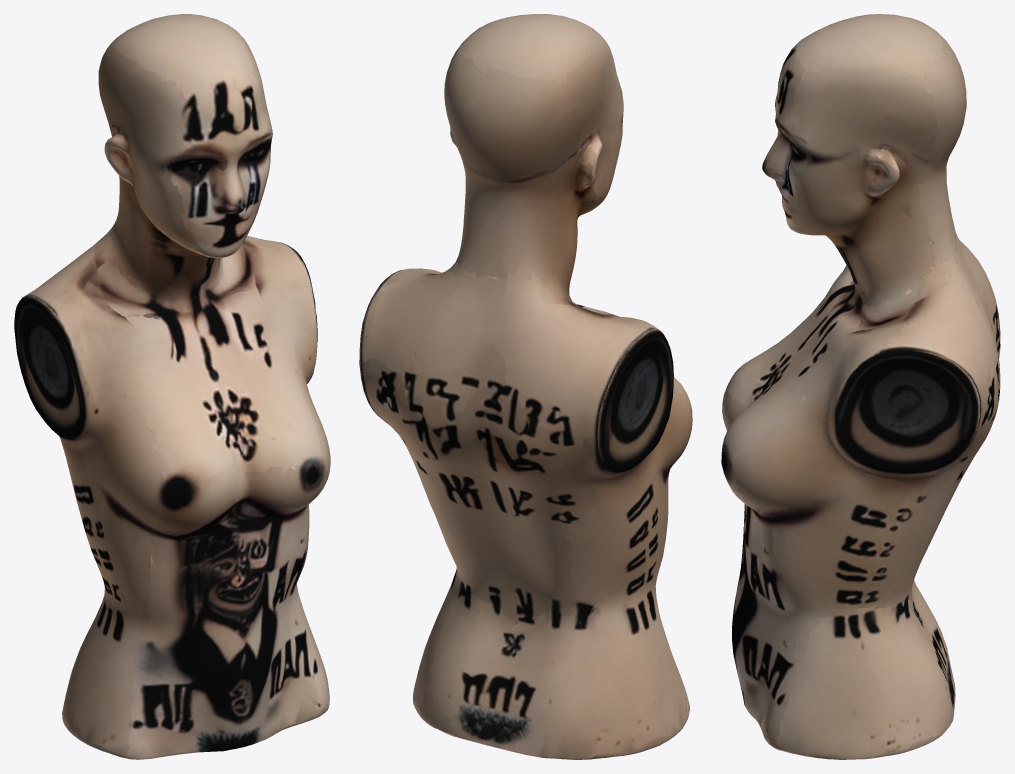
3 renders of one model, left to right at view 1: azimuth 30°, elevation 25°; view 2: azimuth 150°, elevation 25°; view 3: azimuth 270°, elevation 25°, orthographic. The views are drawn at different scales.
Visible parts, largest first — view 1: geometry_0.001; view 2: geometry_0.001; view 3: geometry_0.001.
Boxes of the visible parts, x1=… form: geometry_0.001: x1=14, y1=14, x2=330, y2=759; geometry_0.001: x1=359, y1=14, x2=692, y2=759; geometry_0.001: x1=721, y1=14, x2=1000, y2=759.
Bounding box in the file's own units: 0.7795 × 1.99 × 0.7386.
1 material, 1 textured.
